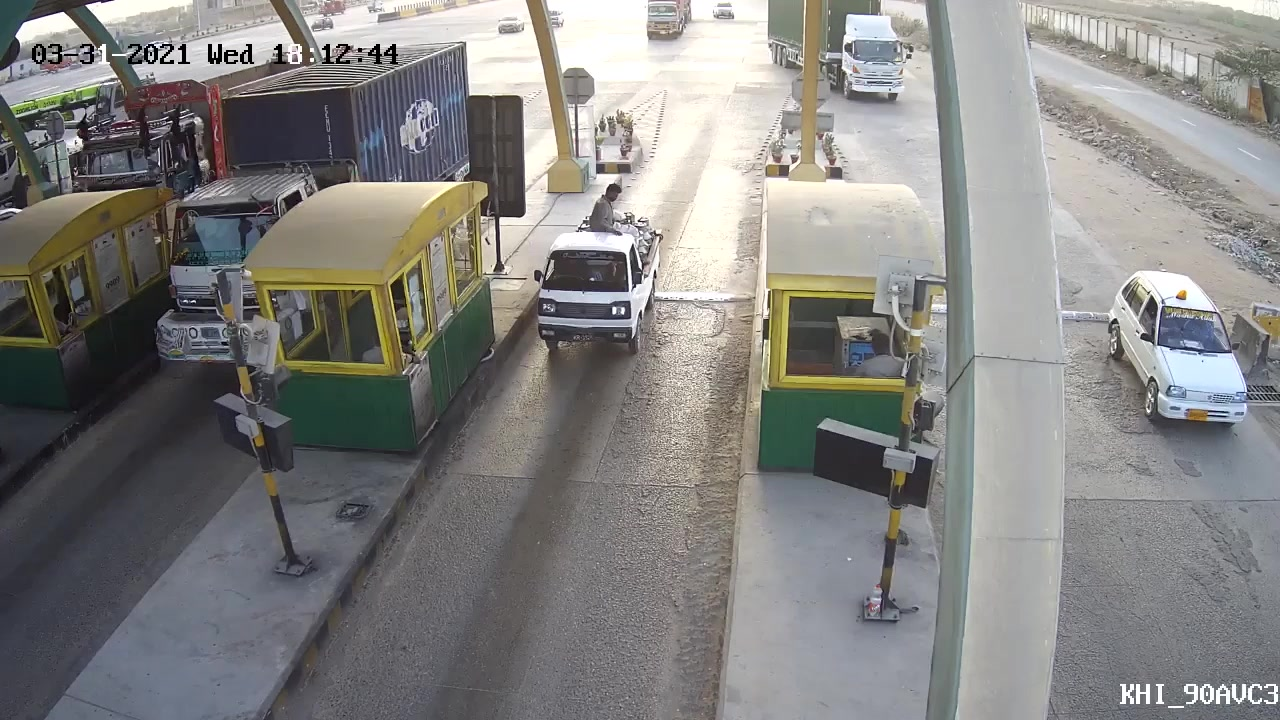F2: (525, 224, 677, 359)
